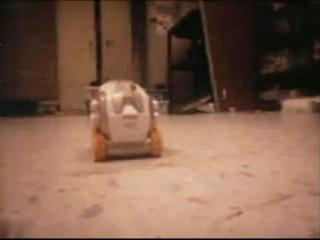cozmo: (86, 78, 164, 161)
